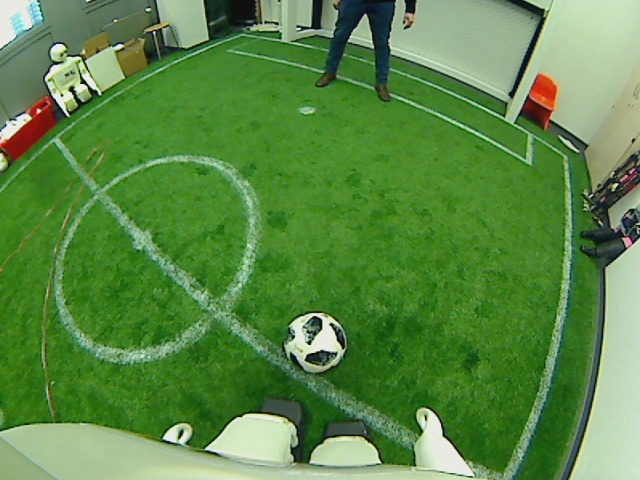ball: (282, 307, 349, 376)
